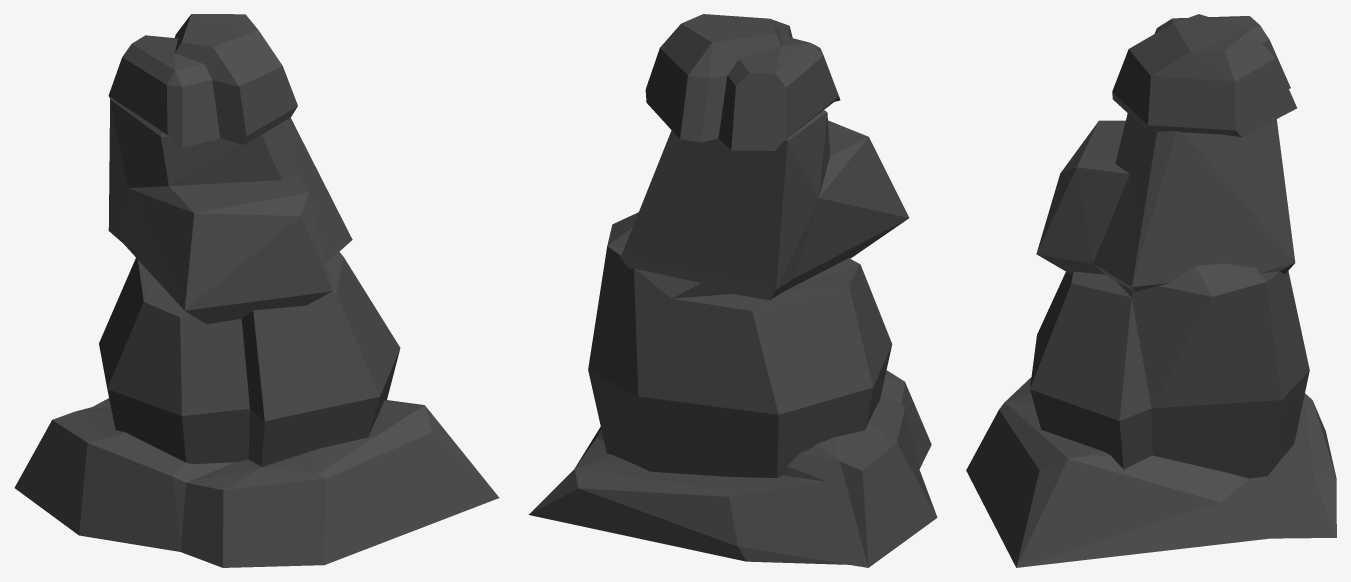
Rendered from rock__rockform_column_dark.glb.
The picture shows the model from 3 angles, left to right: view 1: azimuth 30°, elevation 25°; view 2: azimuth 150°, elevation 25°; view 3: azimuth 270°, elevation 25°; orthographic projection. The views are drawn at different scales.
Visible parts, largest first — view 1: rockform.column.dark; view 2: rockform.column.dark; view 3: rockform.column.dark.
Boxes of the visible parts, bbox=[...] form: rockform.column.dark: bbox=[14, 14, 499, 567]; rockform.column.dark: bbox=[529, 14, 937, 567]; rockform.column.dark: bbox=[966, 14, 1336, 567].
Size of the model in its own units: 12.37 by 14.87 by 11.23.
Materials: 1 (1 with a texture image).
